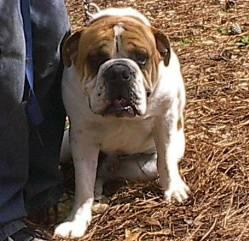dog: (54, 4, 188, 237)
